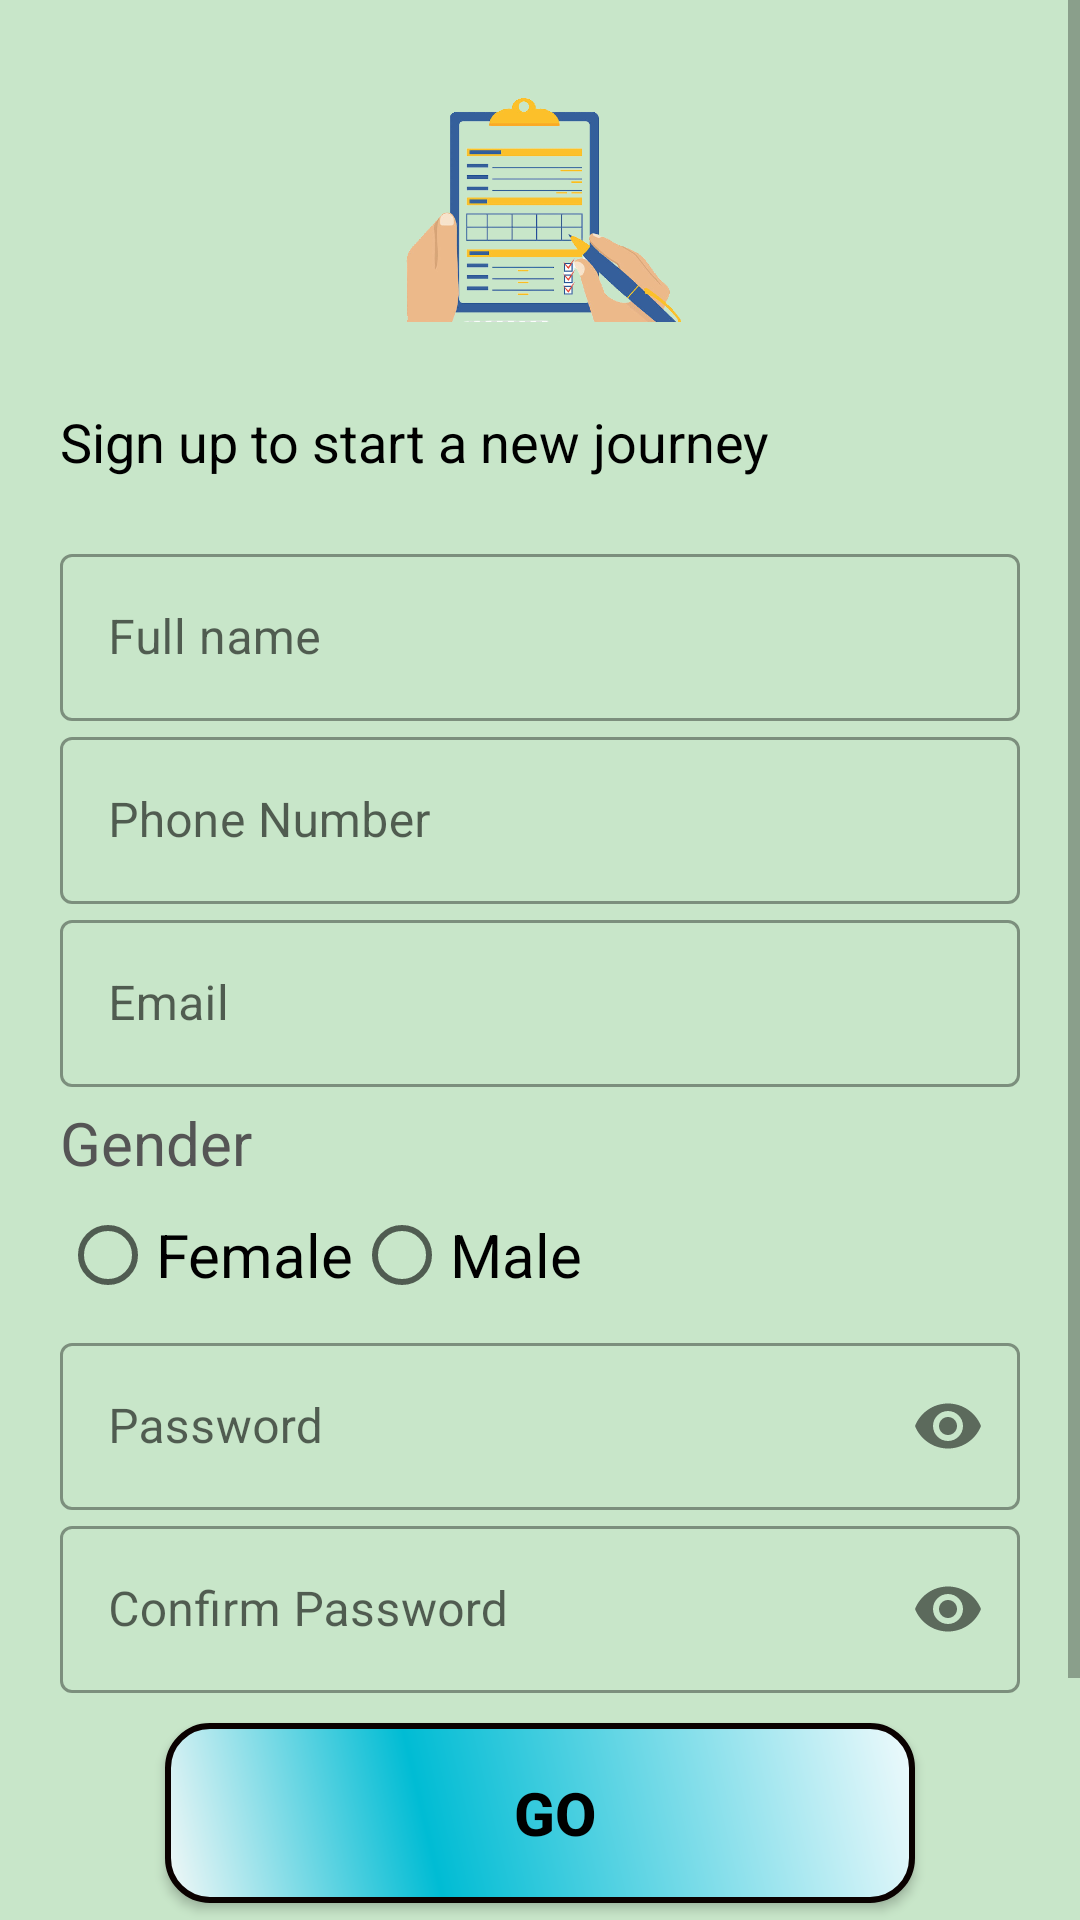

Named icons in this screenshot (1080px x 1920px) and their centers, (x=x, y=y):
customersignup: (x=544, y=210)
